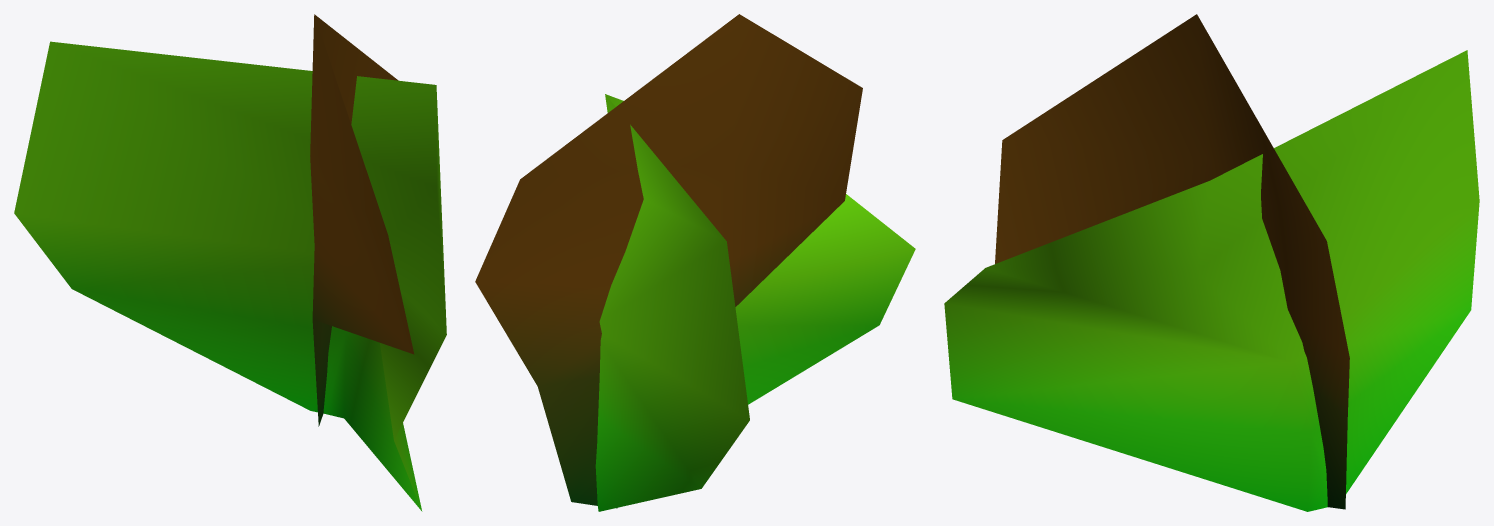
Rendered from Var1Hi25.fbx.
The picture shows the model from 3 angles, left to right: view 1: azimuth 30°, elevation 25°; view 2: azimuth 150°, elevation 25°; view 3: azimuth 270°, elevation 25°; orthographic projection. The views are drawn at different scales.
Parts seen in each view (by area): view 1: bend1; view 2: bend1; view 3: bend1.
Boxes of the visible parts, left/top/right/bottom form: bend1: left=14, top=14, right=446, bottom=511; bend1: left=475, top=14, right=915, bottom=511; bend1: left=944, top=14, right=1479, bottom=511.
Size of the model in its own units: 1.03 by 1.35 by 1.42.
